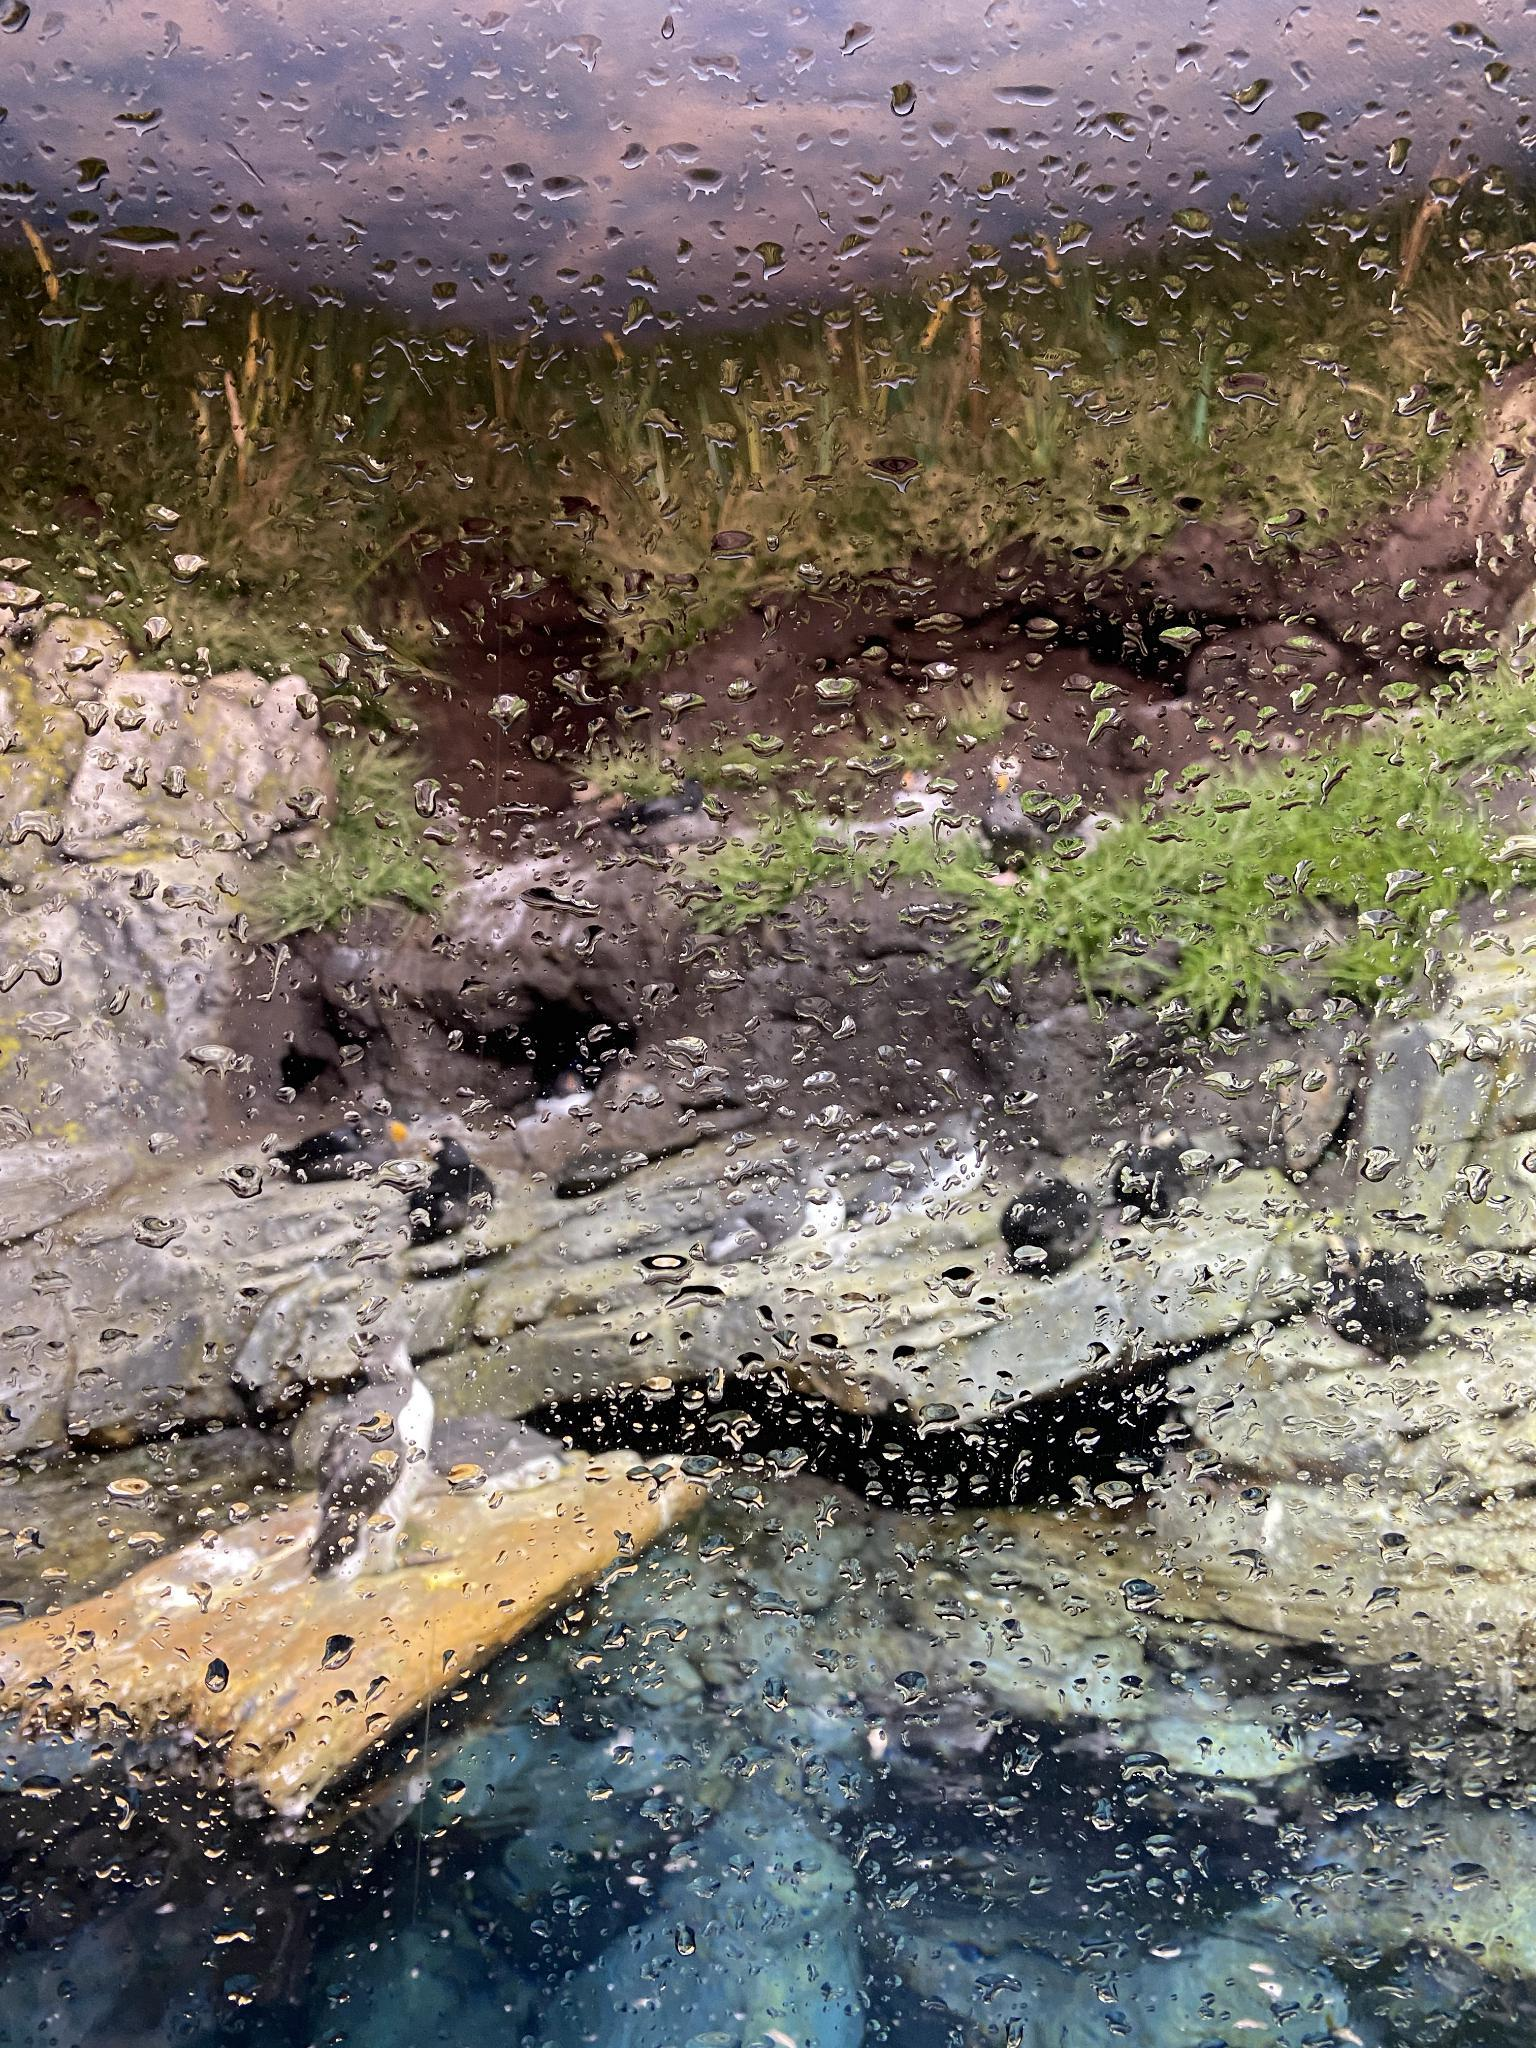puffin: (310, 1338, 445, 1572), (724, 1176, 845, 1263), (403, 1137, 492, 1247), (1007, 1171, 1091, 1268), (1346, 1256, 1430, 1351), (281, 1113, 407, 1176), (878, 1135, 979, 1213), (1113, 1138, 1192, 1224), (610, 777, 715, 839), (984, 769, 1054, 856), (892, 768, 950, 816)
